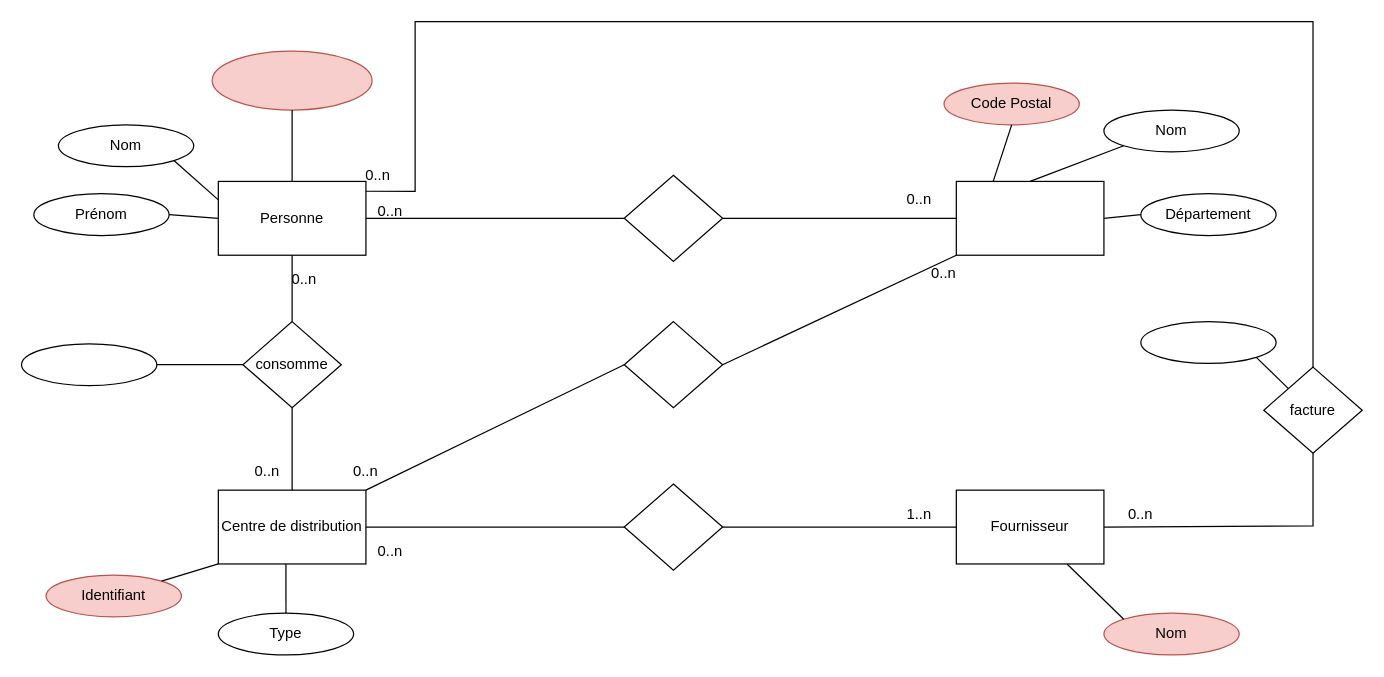
Some shapes in this 1384 by 677 pixel diagram are drawn without their labels. The shapes that lost their labels are listed below. From the top down, each one's box as (x1, y1, x2, y2) in pixels, then its label:
(211, 50, 372, 110): Numéro de client
(623, 174, 723, 261): Habite
(955, 180, 1104, 255): Ville
(1140, 320, 1276, 363): Prix au kW/h
(20, 343, 157, 386): Quantité
(623, 320, 723, 408): Se situe
(623, 483, 723, 570): Appartient
